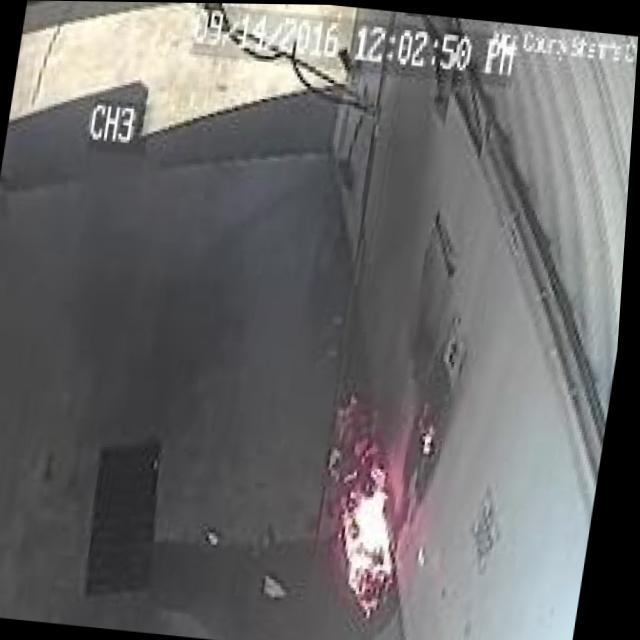fire: (308, 391, 454, 625)
